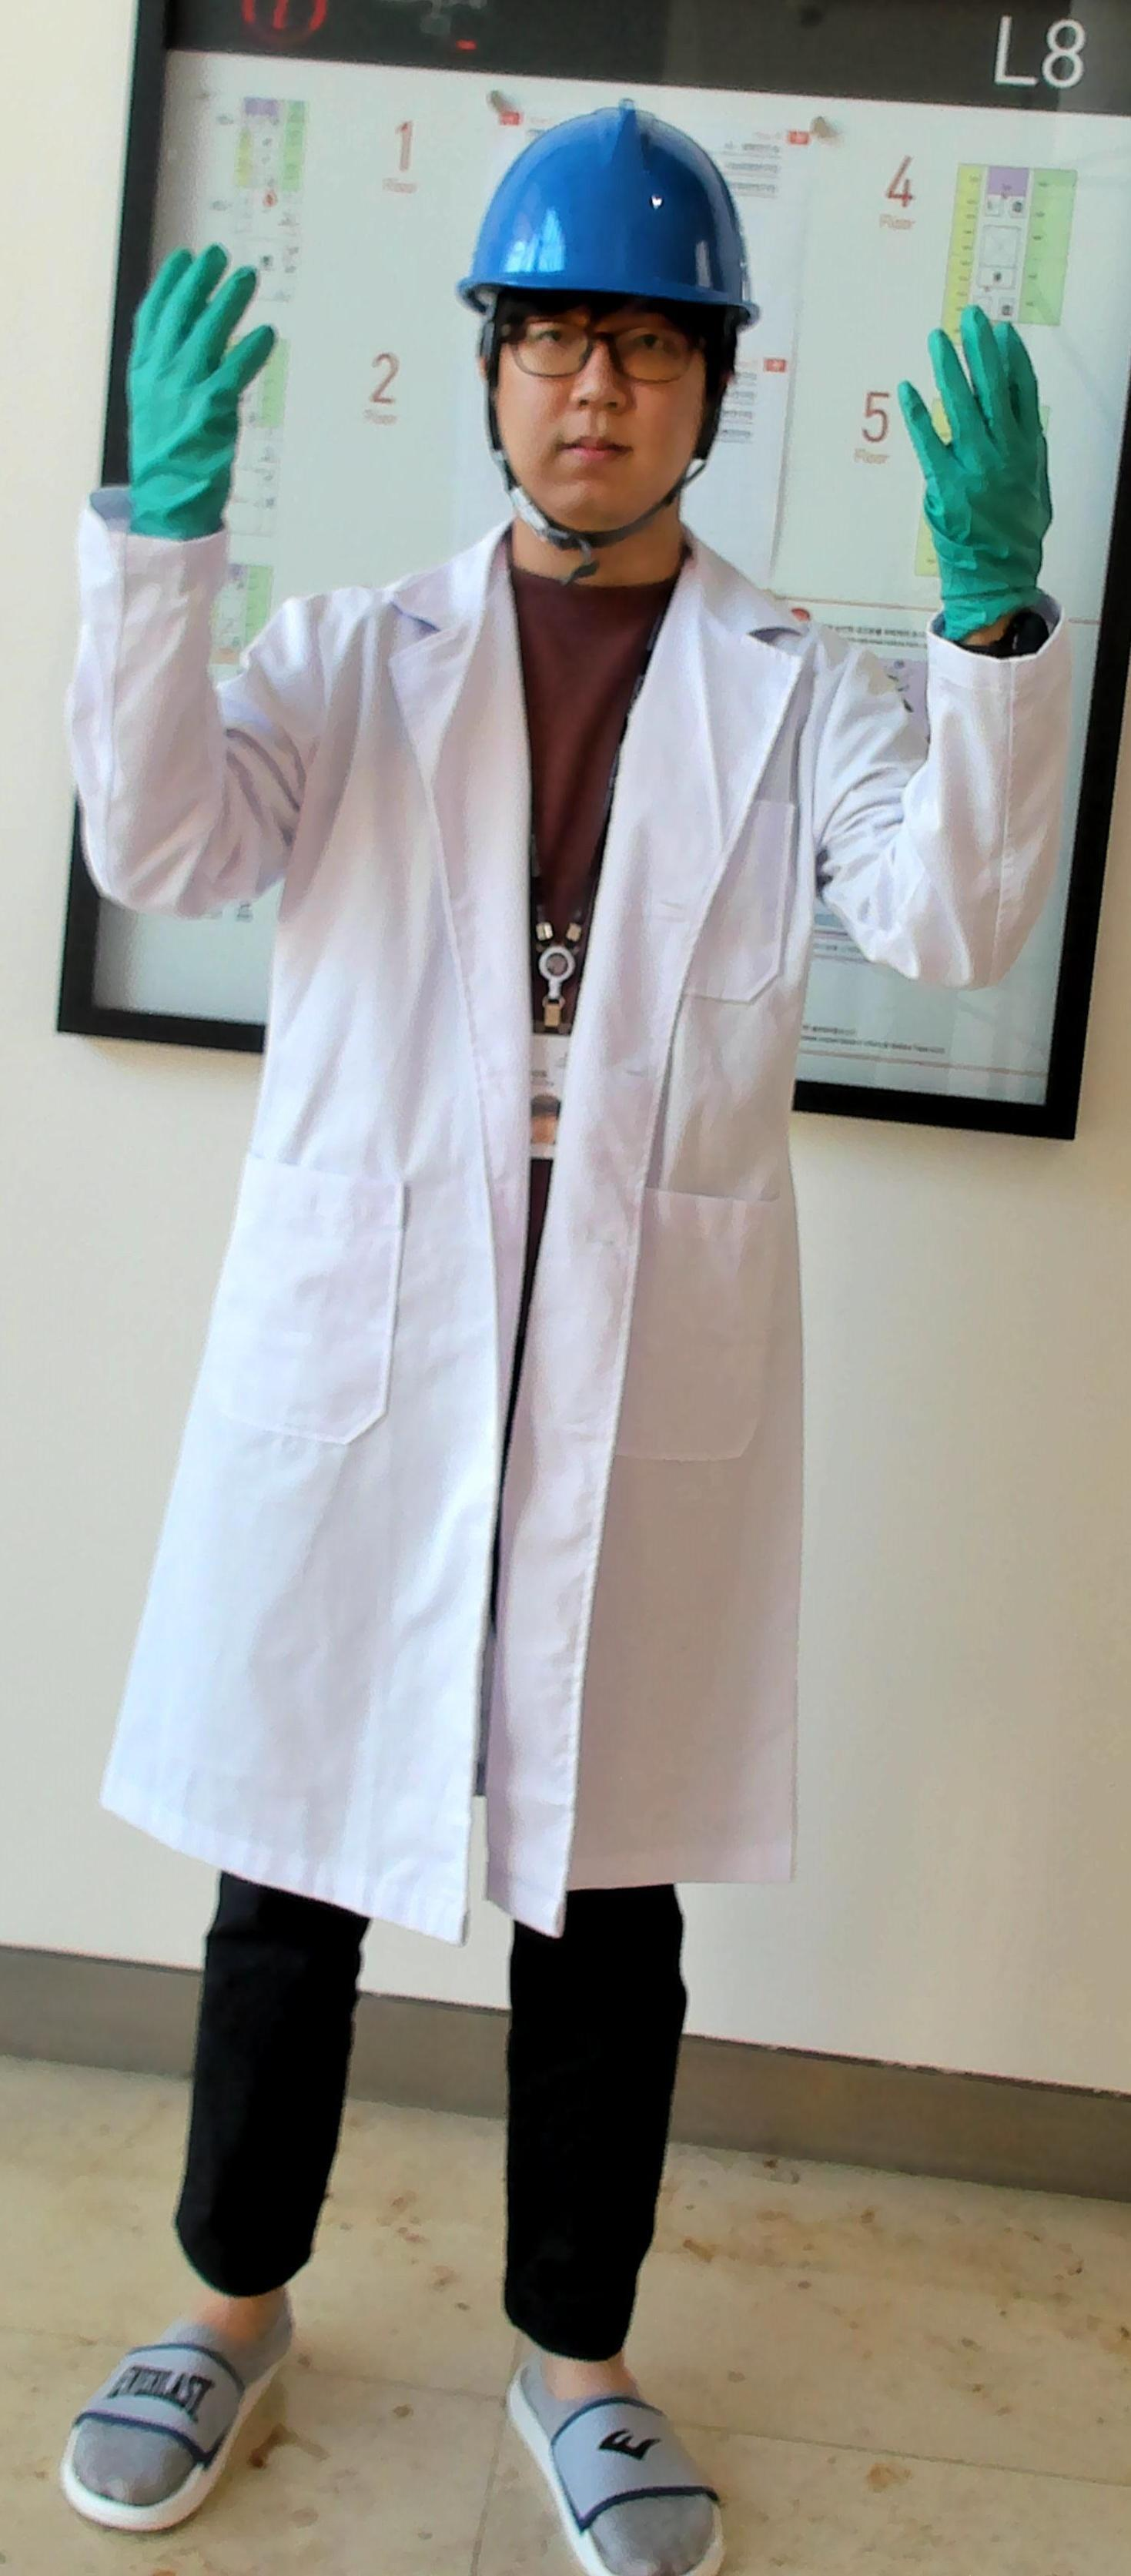lab_coat: (177, 632, 895, 1902)
